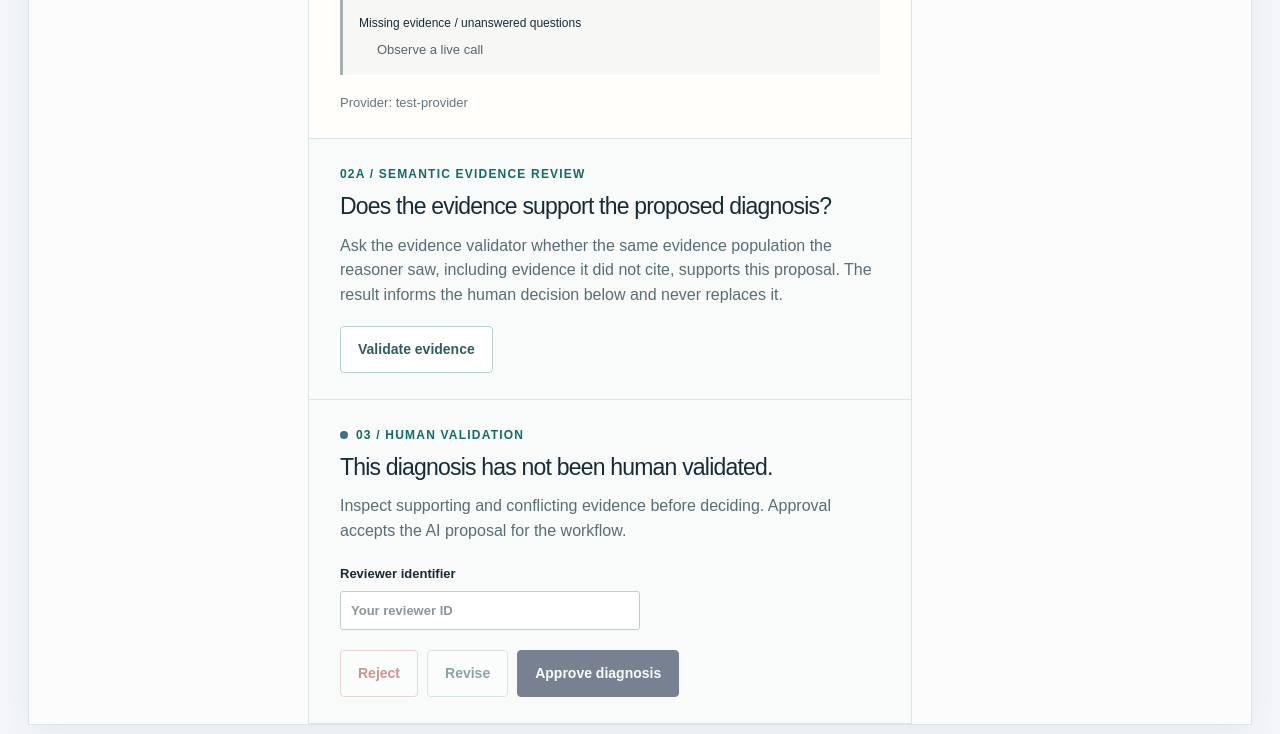
Test: diagnostic review semantics › preserves the original proposal and requires separate approval after revision
(page scrolled)
Type "qa-1" into the field with placeholder "Your reviewer ID".
click(490, 610); type("qa-1")  # box 340,591 -> 640,630
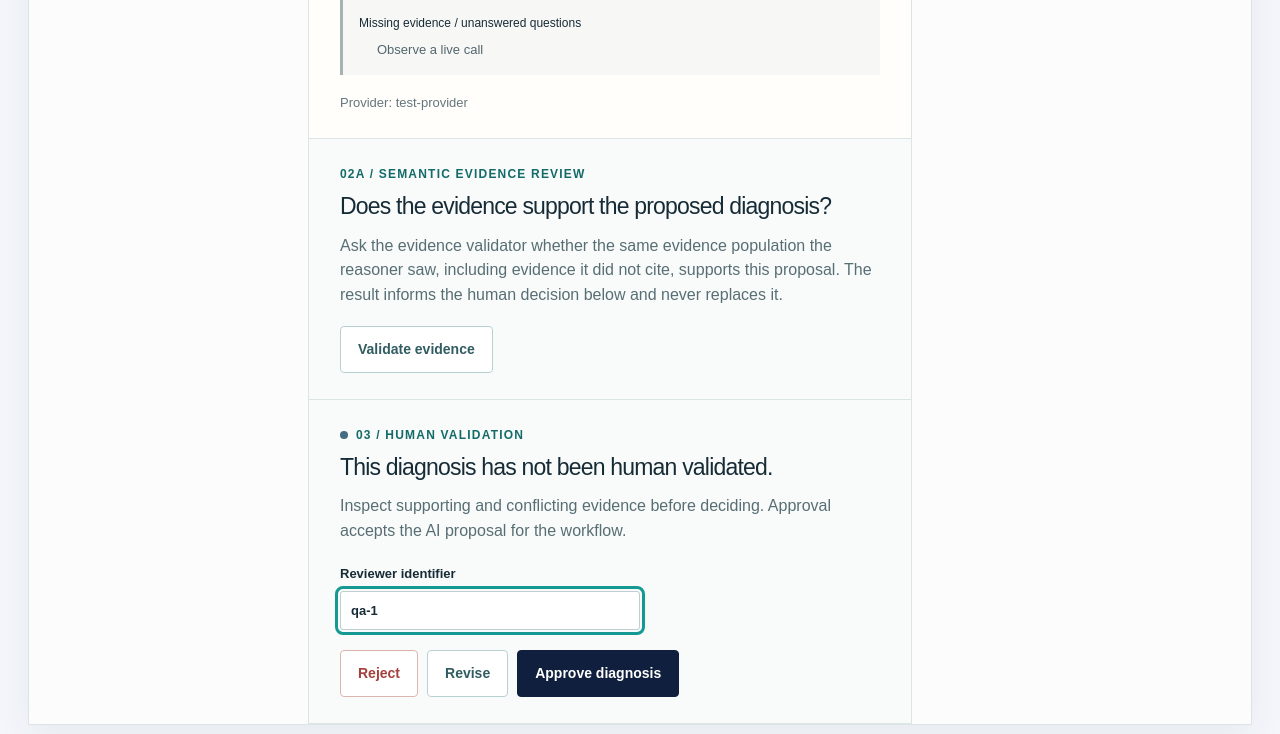
Click the button "Revise".
click(468, 674)  # box 427,650 -> 508,697
(page scrolled)
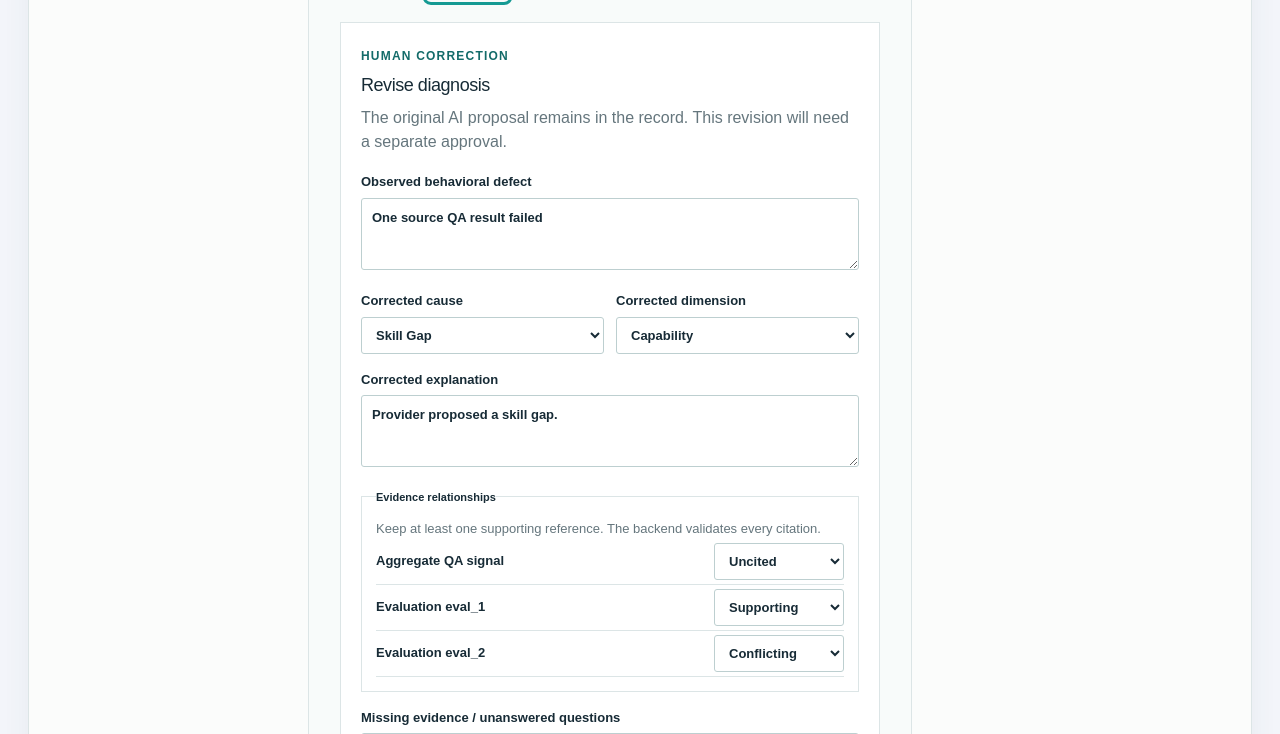
Select "Process Gap" in the dropdown labelled "Corrected cause" at (482, 335), box 361,317 -> 604,354
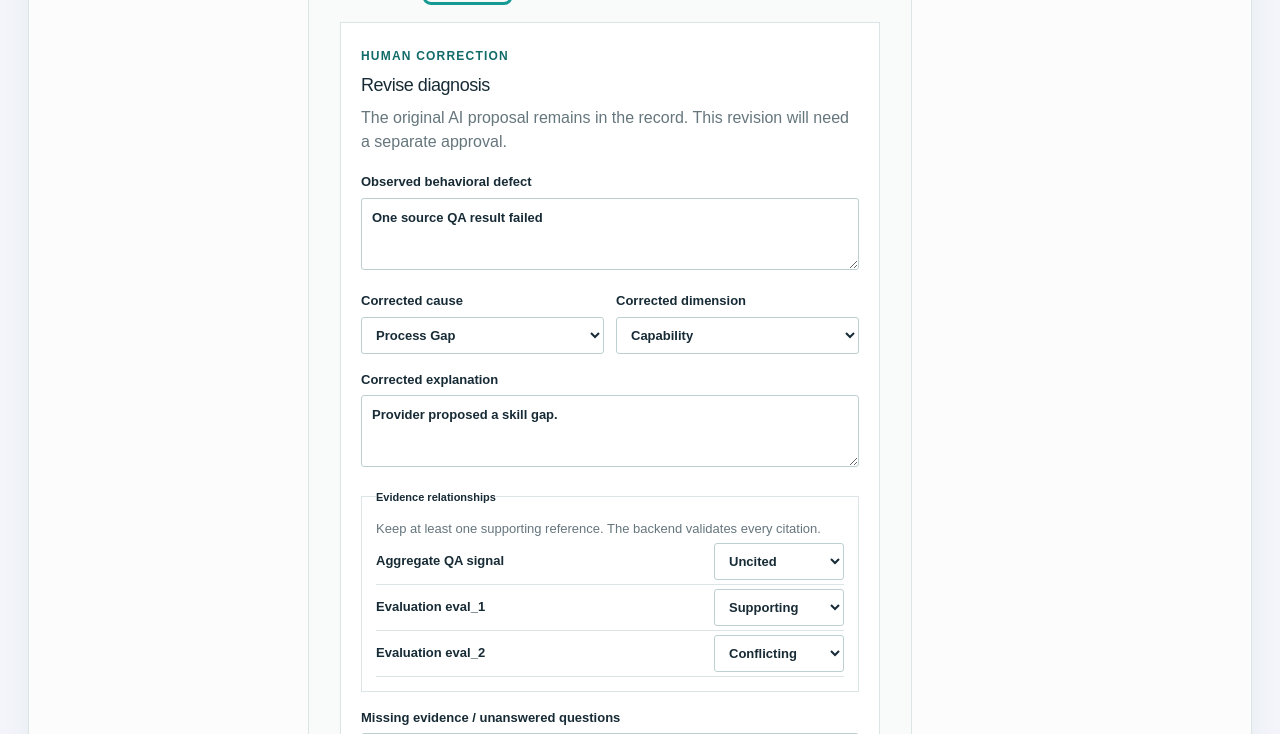
Replace the text in the text box labelled "Corrected explanation" with "Reviewer found a process issue." at (610, 431), box 361,395 -> 859,467
(page scrolled)
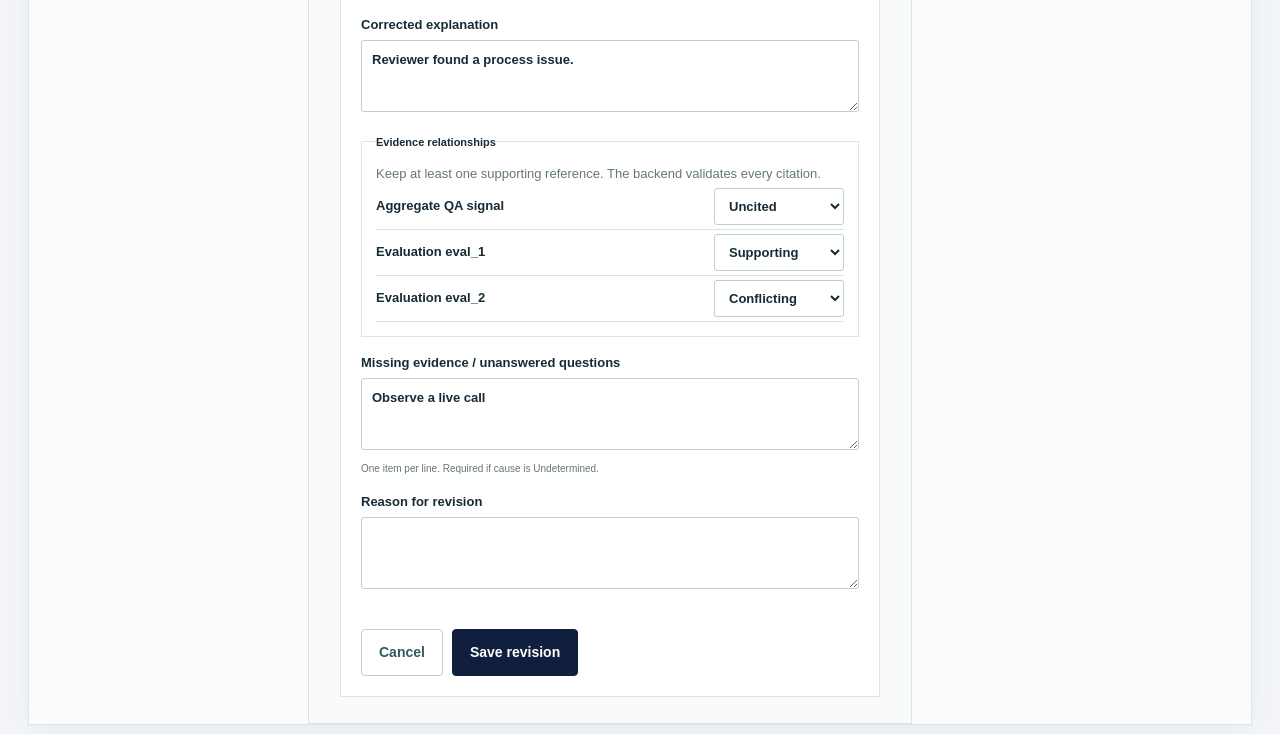
Type "Process evidence" into the text box labelled "Reason for revision".
click(610, 553); type("Process evidence")  # box 361,517 -> 859,589
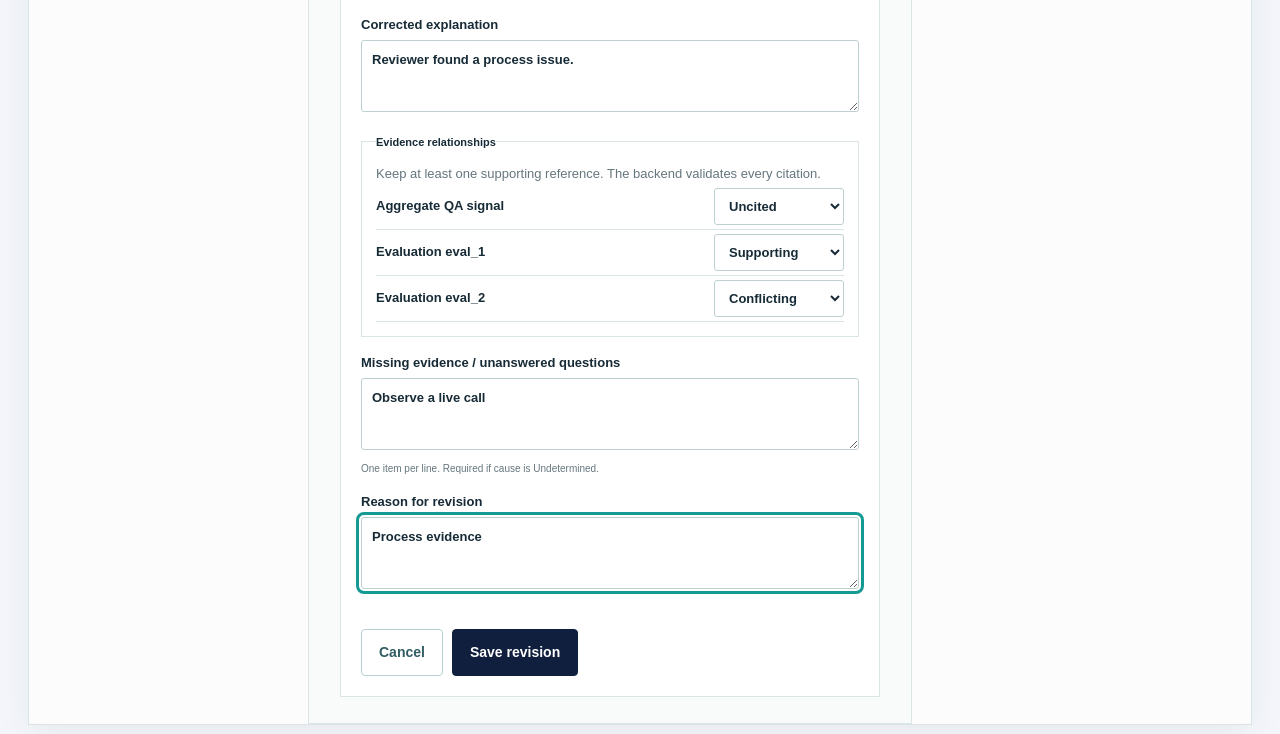
Click the button "Save revision".
click(515, 652)  # box 452,629 -> 578,676
(page scrolled)
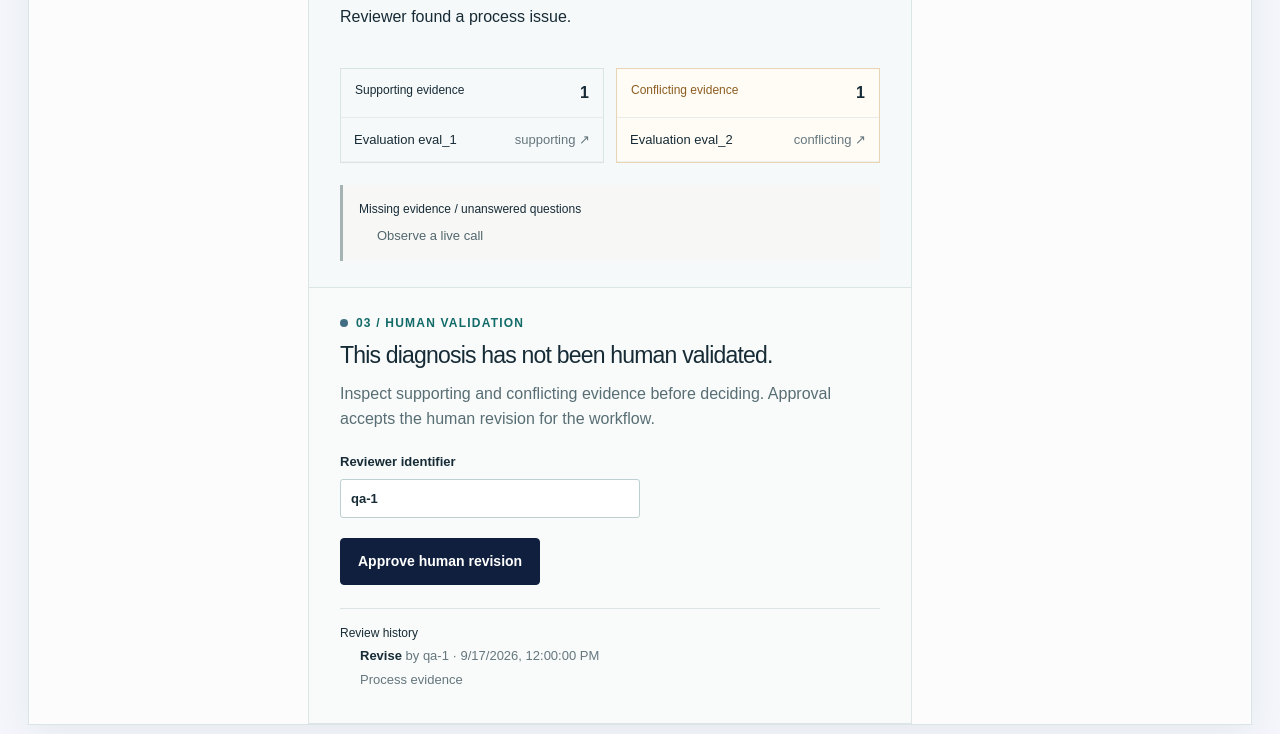
Expected: the text "Reviewer found a process issue." is shown, 340,8 -> 571,25
Expected: the button "Approve human revision" is shown, 340,538 -> 540,585
